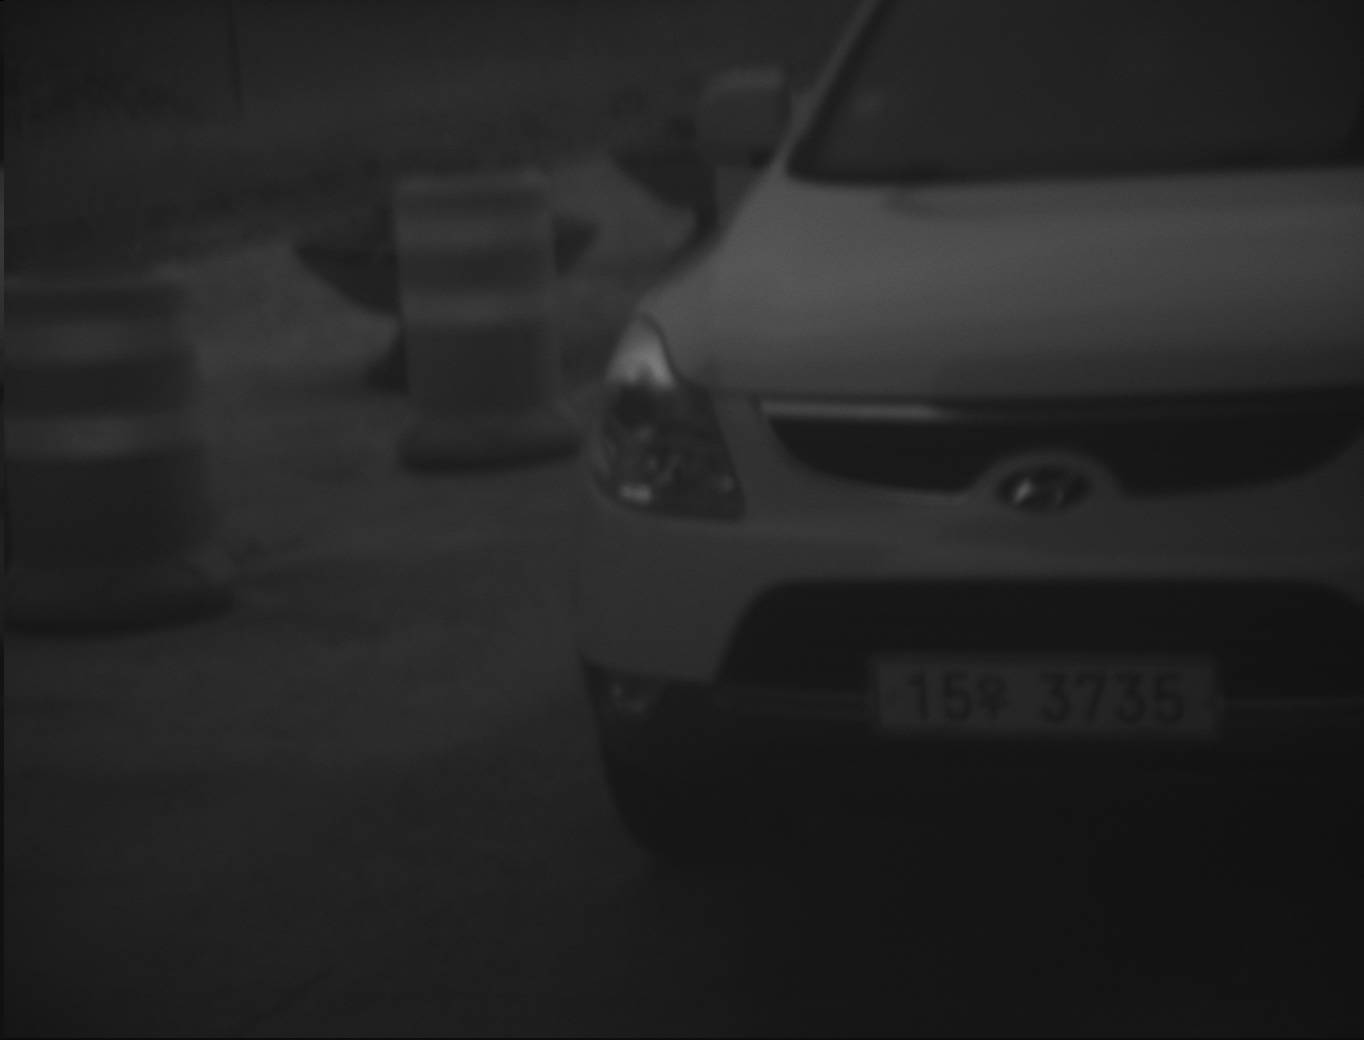car: (560, 1, 1360, 872)
plate: (863, 650, 1223, 737)
